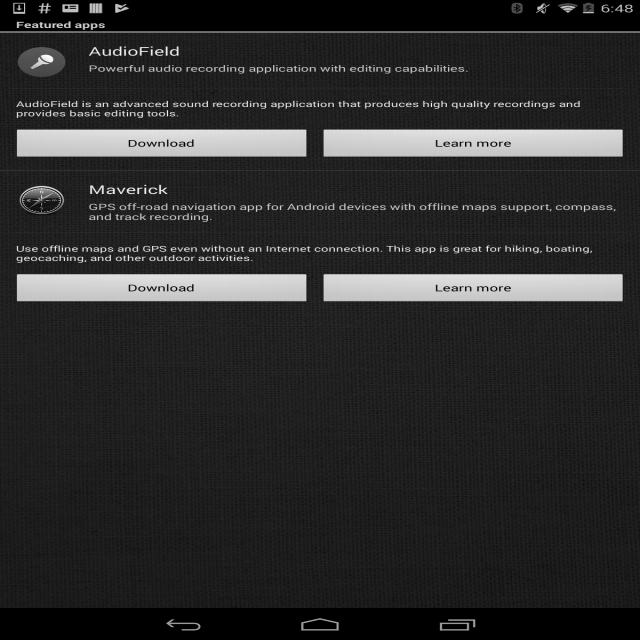Button: (320, 128, 627, 160), (320, 274, 627, 306), (13, 128, 311, 160), (13, 274, 311, 306)
ImageView: (16, 184, 67, 217), (16, 46, 67, 78)
TextView: (0, 88, 640, 129), (0, 233, 640, 273), (89, 200, 624, 222), (88, 62, 469, 74), (89, 43, 180, 59), (89, 181, 168, 197), (16, 18, 106, 31)
